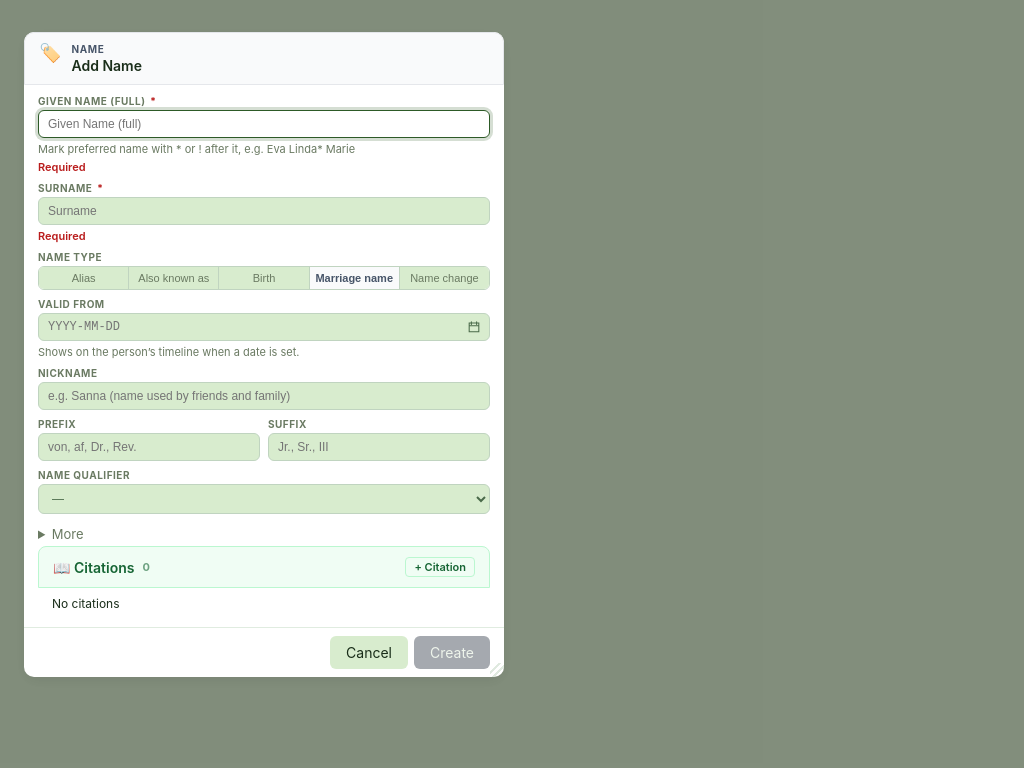
Test: PersonNameModal — Save is disabled until at least one identifier is provided › clearing both fields after typing re-disables Save
In the field with class "ep-input" showing "Given Name (full)": {"x": 264, "y": 124} [38,110,490,138], type "A"
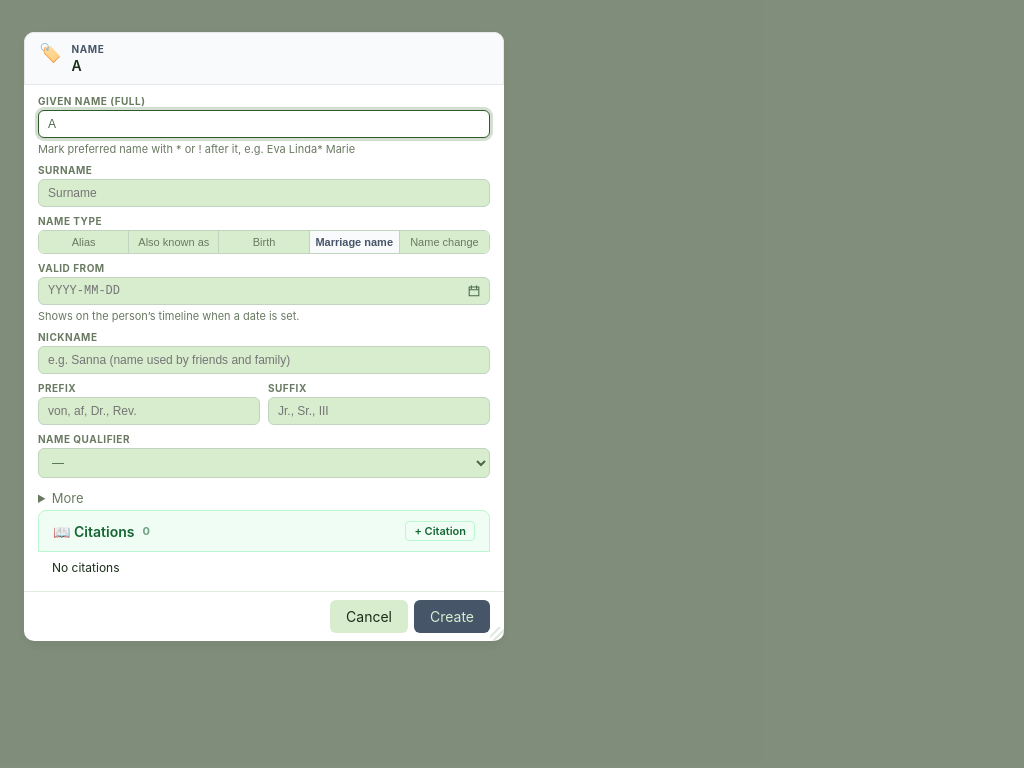
Result: the button with class "ep-save-btn" is enabled at [414,600,490,633]
Clear the 1st field with class "ep-input": {"x": 264, "y": 124} [38,110,490,138]
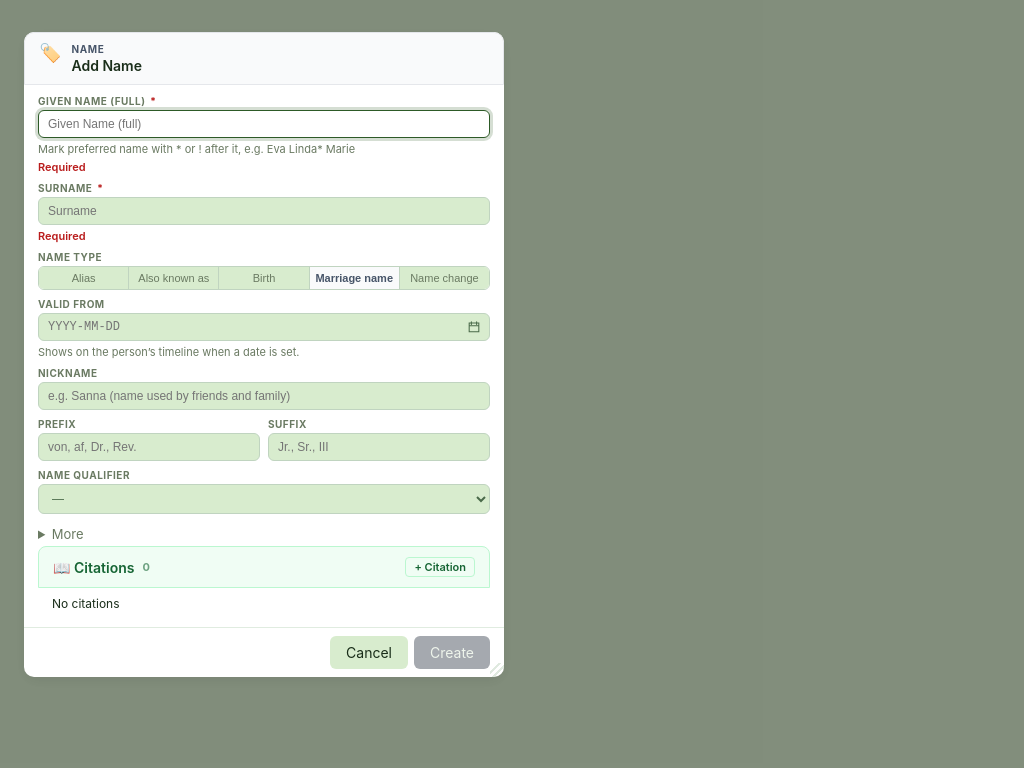
Result: the button with class "ep-save-btn" is disabled at [414,636,490,669]
